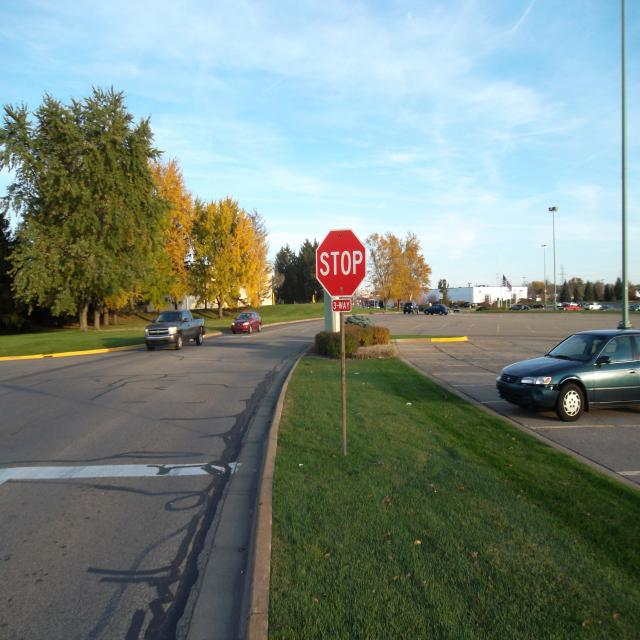stop: (314, 227, 368, 298)
